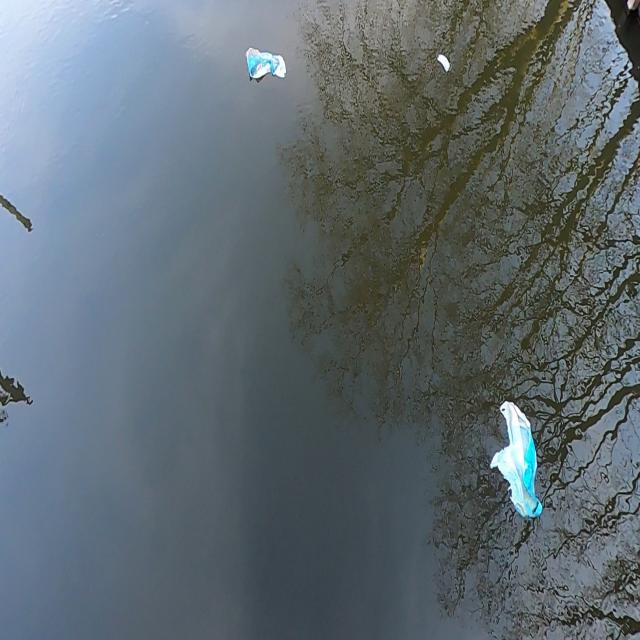Non plastique: (434, 46, 457, 77)
Sac plastique: (487, 392, 545, 530), (240, 41, 289, 86)
